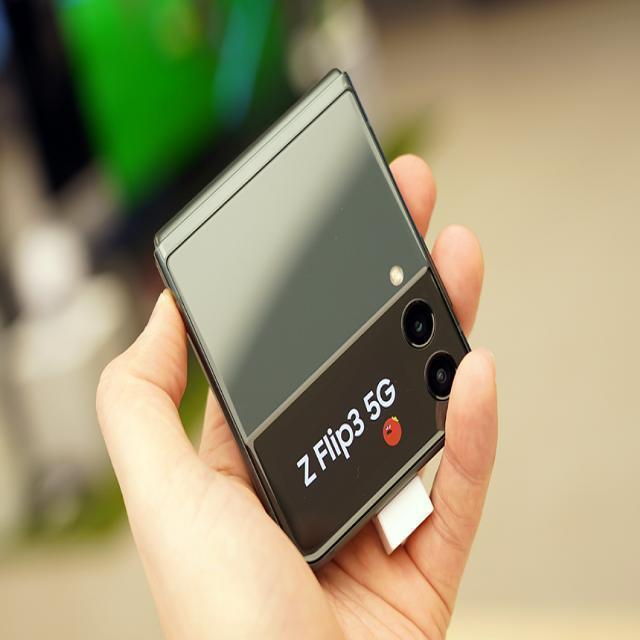phone: (149, 69, 469, 571)
